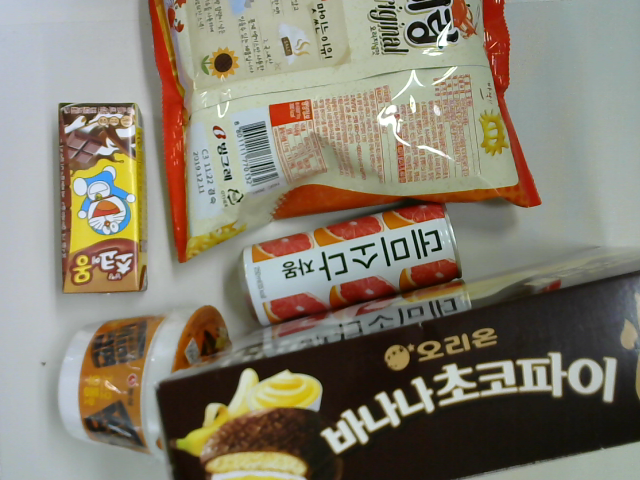Choco_E_Mong: (57, 102, 148, 296)
Choco_Pie_Banana: (153, 245, 640, 480)
Crabrang: (148, 1, 542, 266)
Demisoda_Grapefruit_Can_250ml: (240, 201, 465, 326)
Udongmini: (56, 304, 233, 463)
